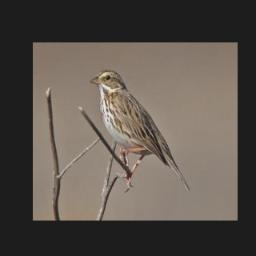Sparrow: (90, 69, 192, 193)
